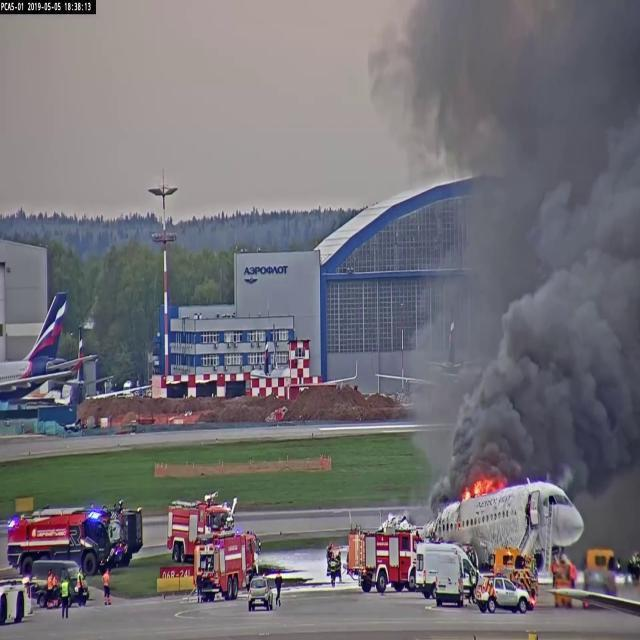Smoke: (468, 294, 640, 495)
